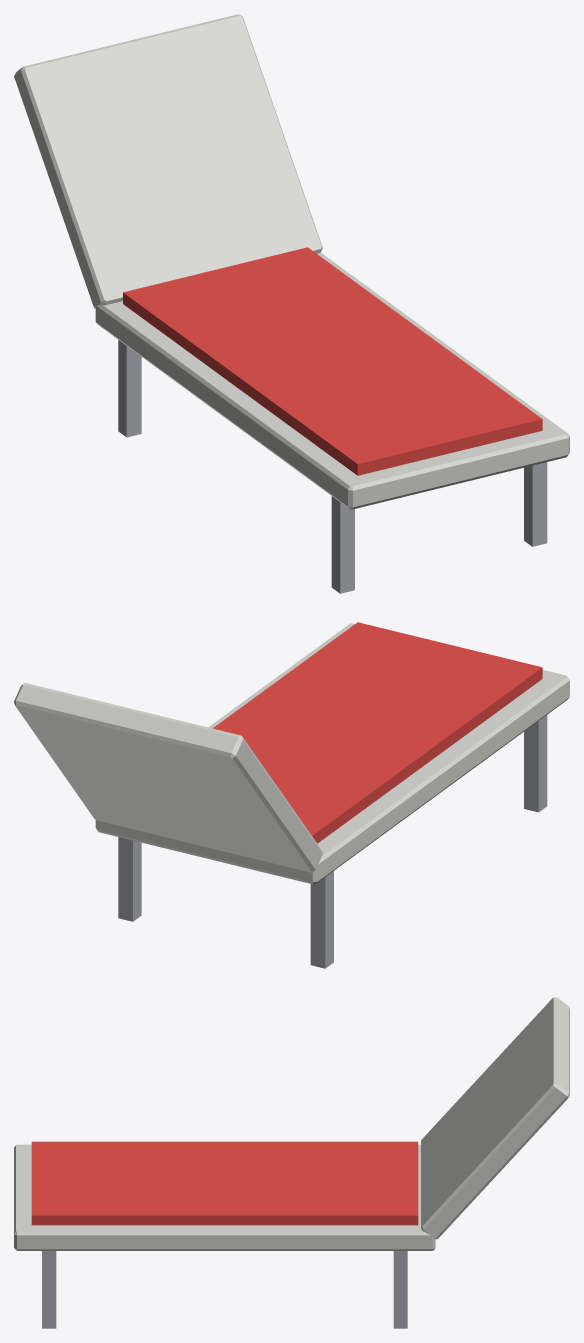
File: lounger.obj
3 renders of one model, top to bottom at view 1: azimuth 30°, elevation 25°; view 2: azimuth 150°, elevation 25°; view 3: azimuth 270°, elevation 25°, orthographic. The views are drawn at different scales.
Visible parts, largest first — view 1: lounger; view 2: lounger; view 3: lounger.
Part boxes in pixels (x1,y1,x2,y2): lounger: (14,14,569,593); lounger: (14,622,569,968); lounger: (14,997,569,1328).
Bounding box in the file's own units: 0.6 × 0.7737 × 1.58.
